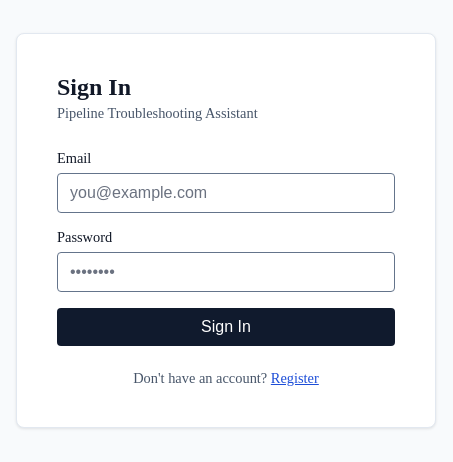
Test: LoginPage form submission › displays server error message on failed login
The width and height of the screenshot is (453, 462).
Type "user@example.com" into the field labelled "Email".
click(226, 192); type("user@example.com")  # box [57,172,395,212]
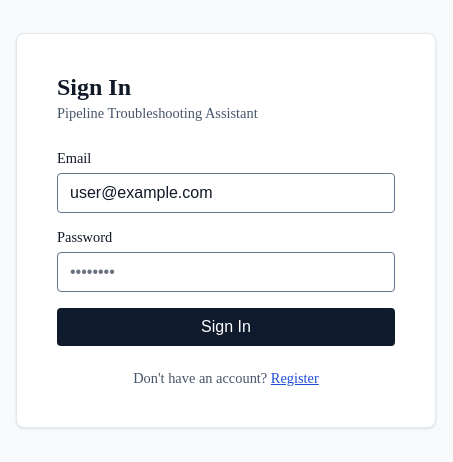
Type "password123" into the password field labelled "Password".
click(226, 272); type("password123")  # box [57,252,395,292]
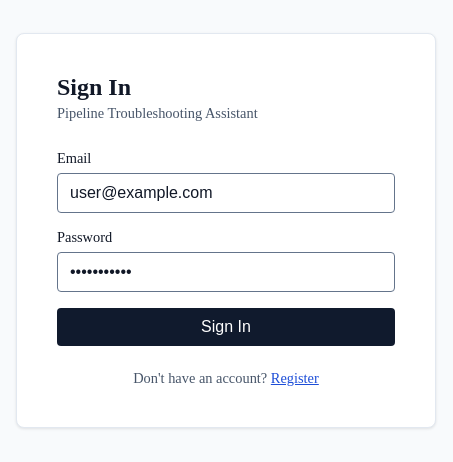
Click the button "Sign In".
click(226, 326)  # box [57,308,395,346]
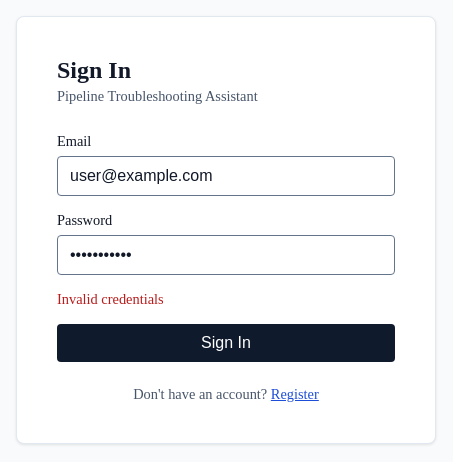
Expected: the message reads "Invalid credentials", [57,291,164,307]
